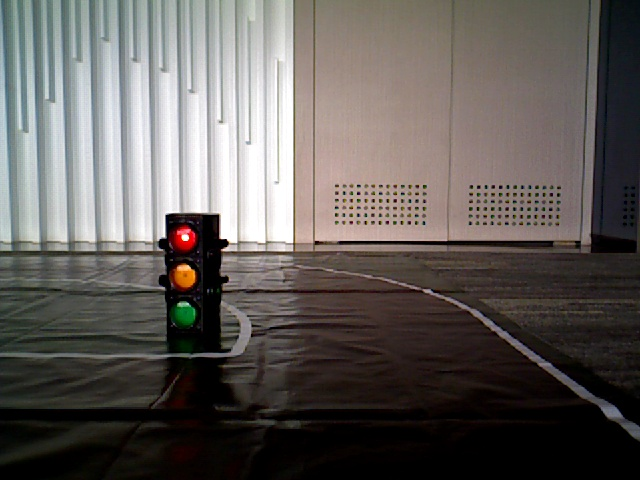red: (168, 220, 208, 330)
